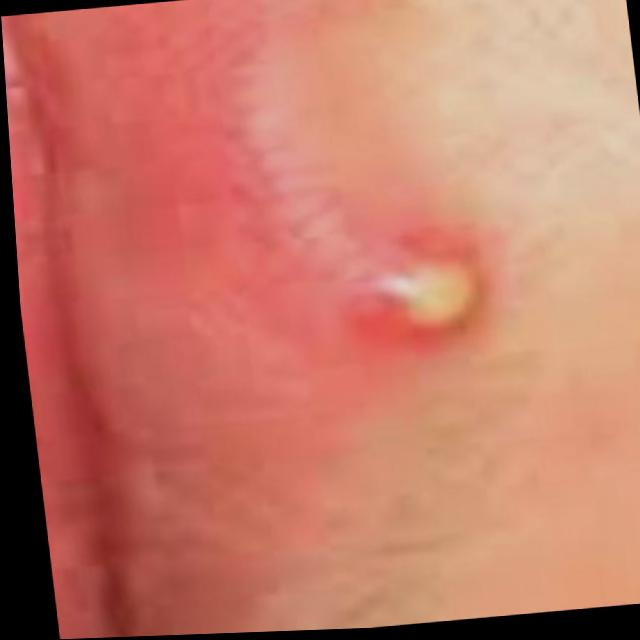pustule: (331, 239, 505, 363)
